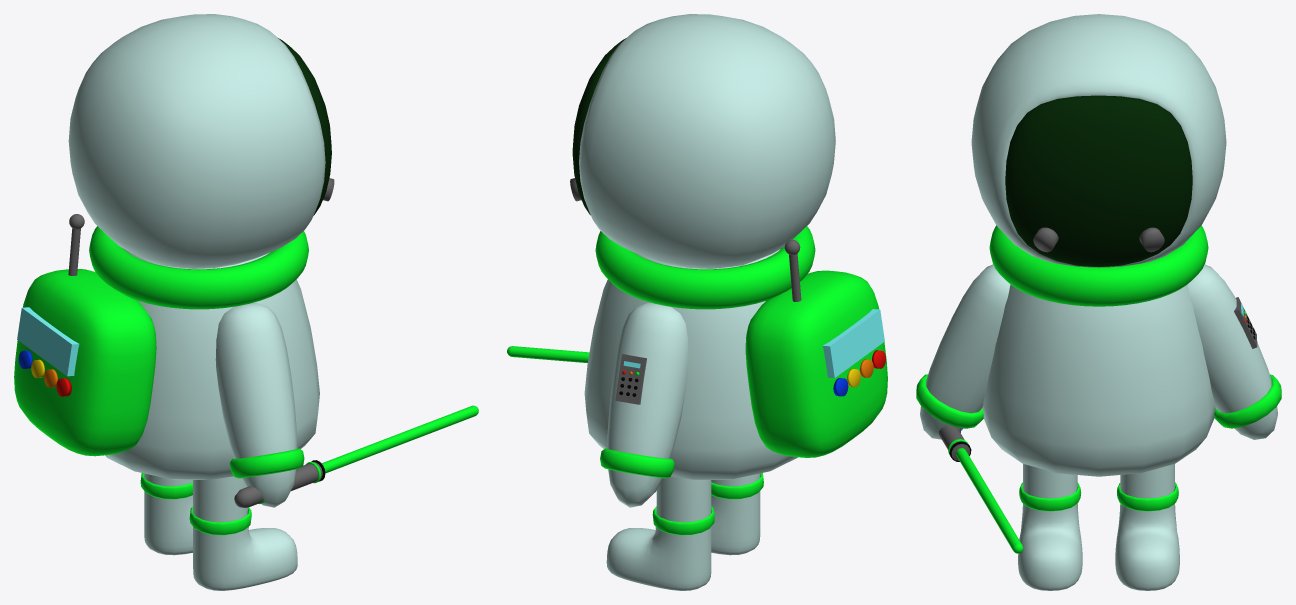
The model's file is soldaatje_gtreeen_FBx_goed.fbx.
3 renders of one model, left to right at view 1: azimuth 30°, elevation 25°; view 2: azimuth 150°, elevation 25°; view 3: azimuth 270°, elevation 25°, orthographic.
Parts seen in each view (by area): view 1: Cube, Cube.007, Cube.002, Cube.005, Cube.003, Torus.001, Cube.008, Capsule, Cube.004, Cube.006, Cube.001, Capsule_1; view 2: Cube, Cube.007, Cube.002, Cube.003, Cube.005, Torus.001, Cube.008, Cube.004, Cube.006, Cube.001, Cube.009, Capsule; view 3: Cube.002, Cube.001, Cube, Cube.005, Cube.003, Torus.001, Cube.006, Cube.004, Capsule, Cylinder.005, Capsule_1.
Part boxes in pixels (x1,y1,x2,y2): Cube: (68,14,325,268); Cube.007: (14,269,156,456); Cube.002: (105,249,319,479); Cube.005: (215,302,297,507); Cube.003: (144,473,297,590); Torus.001: (89,226,308,309); Cube.008: (17,307,79,376); Capsule: (322,405,478,473); Cube.004: (140,473,251,535); Cube.006: (229,448,304,478); Cube.001: (278,38,331,215); Capsule_1: (234,462,322,507); Cube: (579,14,835,268); Cube.007: (745,270,887,457); Cube.002: (584,249,797,479); Cube.003: (606,473,760,590); Cube.005: (607,302,688,507); Torus.001: (595,226,815,309); Cube.008: (822,309,884,378); Cube.004: (652,473,763,535); Cube.006: (600,448,674,478); Cube.001: (572,38,625,215); Cube.009: (615,354,646,404); Capsule: (507,346,589,362); Cube.002: (982,284,1215,476); Cube.001: (1005,95,1192,267); Cube: (971,14,1226,267); Cube.005: (920,264,1277,439); Cube.003: (1018,464,1179,590); Torus.001: (989,225,1208,306); Cube.006: (916,374,1281,428); Cube.004: (1019,482,1178,511); Capsule: (956,448,1023,553); Cylinder.005: (1033,227,1164,252); Capsule_1: (939,426,970,461).
Bounding box in the file's own units: 87.04 × 112 × 69.85.
